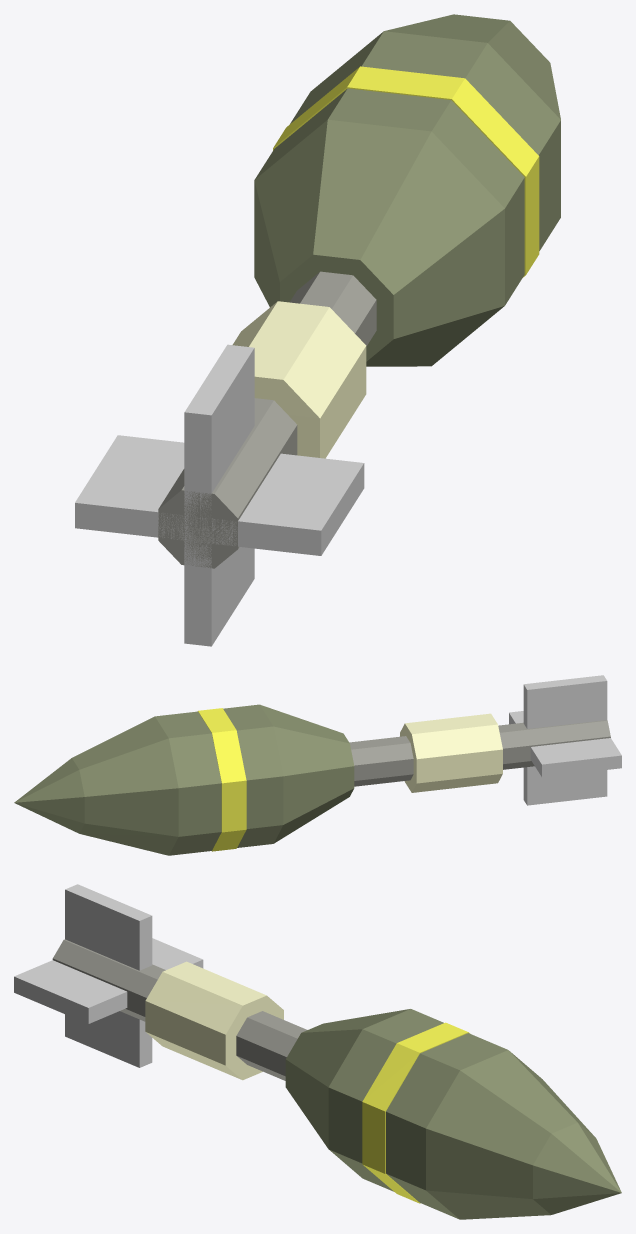
The model's file is ce_ammo_mortar_he_a.obj.
3 renders of one model, top to bottom at view 1: azimuth 30°, elevation 25°; view 2: azimuth 150°, elevation 25°; view 3: azimuth 270°, elevation 25°, orthographic. The views are drawn at different scales.
Parts seen in each view (by area): view 1: ce_ammo_mortar_he_a_2, ce_ammo_mortar_he_a_8, ce_ammo_mortar_he_a_9, ce_ammo_mortar_he_a_1, ce_ammo_mortar_he_a_0, ce_ammo_mortar_he_a_5, ce_ammo_mortar_he_a_3, ce_ammo_mortar_he_a_4, ce_ammo_mortar_he_a_6; view 2: ce_ammo_mortar_he_a_6, ce_ammo_mortar_he_a_2, ce_ammo_mortar_he_a_1, ce_ammo_mortar_he_a_9, ce_ammo_mortar_he_a_5, ce_ammo_mortar_he_a_0, ce_ammo_mortar_he_a_3, ce_ammo_mortar_he_a_4, ce_ammo_mortar_he_a_8, ce_ammo_mortar_he_a_7; view 3: ce_ammo_mortar_he_a_6, ce_ammo_mortar_he_a_1, ce_ammo_mortar_he_a_9, ce_ammo_mortar_he_a_5, ce_ammo_mortar_he_a_3, ce_ammo_mortar_he_a_0, ce_ammo_mortar_he_a_7, ce_ammo_mortar_he_a_2, ce_ammo_mortar_he_a_8, ce_ammo_mortar_he_a_4.
Part boxes in pixels (<box>): ce_ammo_mortar_he_a_2: <box>254,119,504,366</box>; ce_ammo_mortar_he_a_8: <box>75,435,364,555</box>; ce_ammo_mortar_he_a_9: <box>184,344,254,646</box>; ce_ammo_mortar_he_a_1: <box>232,301,366,458</box>; ce_ammo_mortar_he_a_0: <box>158,271,376,568</box>; ce_ammo_mortar_he_a_5: <box>290,31,560,250</box>; ce_ammo_mortar_he_a_3: <box>255,88,524,305</box>; ce_ammo_mortar_he_a_4: <box>273,66,539,277</box>; ce_ammo_mortar_he_a_6: <box>384,14,560,119</box>; ce_ammo_mortar_he_a_6: <box>72,716,178,855</box>; ce_ammo_mortar_he_a_2: <box>260,704,354,843</box>; ce_ammo_mortar_he_a_1: <box>400,713,502,792</box>; ce_ammo_mortar_he_a_9: <box>523,675,607,805</box>; ce_ammo_mortar_he_a_5: <box>155,711,221,855</box>; ce_ammo_mortar_he_a_0: <box>349,720,610,786</box>; ce_ammo_mortar_he_a_3: <box>223,704,283,847</box>; ce_ammo_mortar_he_a_4: <box>197,708,246,851</box>; ce_ammo_mortar_he_a_8: <box>509,711,621,777</box>; ce_ammo_mortar_he_a_7: <box>14,758,84,833</box>; ce_ammo_mortar_he_a_6: <box>426,1050,595,1219</box>; ce_ammo_mortar_he_a_1: <box>145,961,283,1080</box>; ce_ammo_mortar_he_a_9: <box>65,884,152,1067</box>; ce_ammo_mortar_he_a_5: <box>386,1033,507,1219</box>; ce_ammo_mortar_he_a_3: <box>328,1009,443,1191</box>; ce_ammo_mortar_he_a_0: <box>52,939,307,1080</box>; ce_ammo_mortar_he_a_7: <box>533,1122,621,1214</box>; ce_ammo_mortar_he_a_2: <box>285,1009,409,1148</box>; ce_ammo_mortar_he_a_8: <box>14,938,203,1023</box>; ce_ammo_mortar_he_a_4: <box>362,1022,469,1203</box>.
Size of the model in its own units: 0.7495 by 0.2052 by 0.7495.
